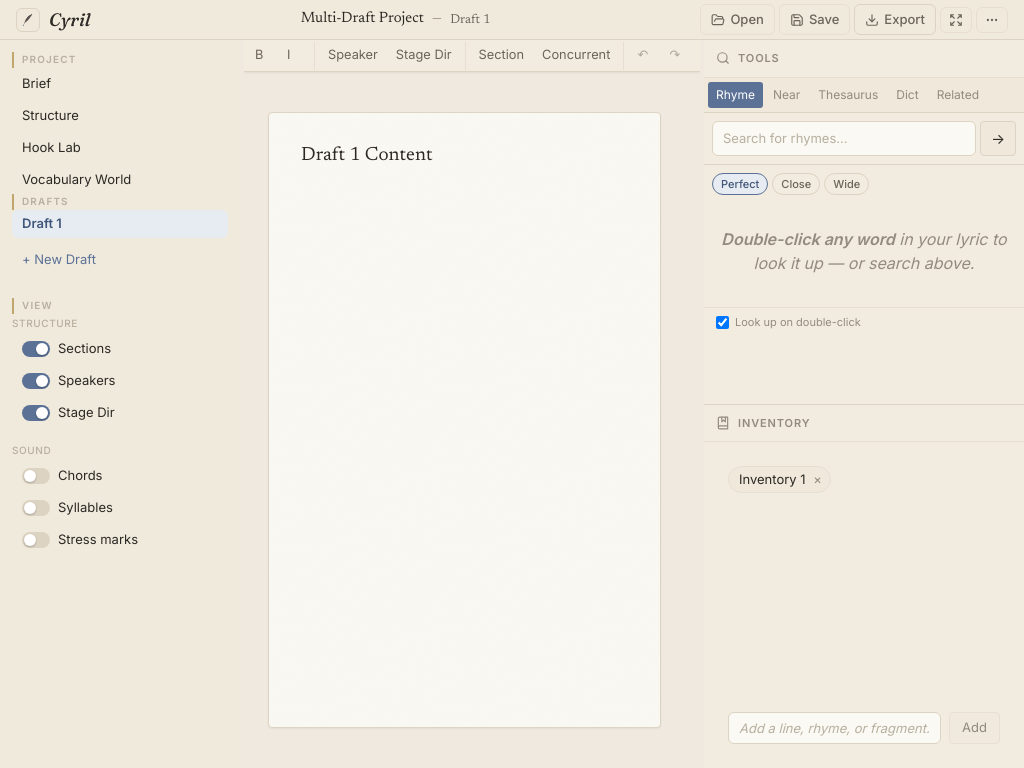
it: Workspaces and Drafts Integration › T-3.05: Create blank draft works
# Click New Draft
Click the button "+ New Draft": (59, 259) 22,251 -> 96,267
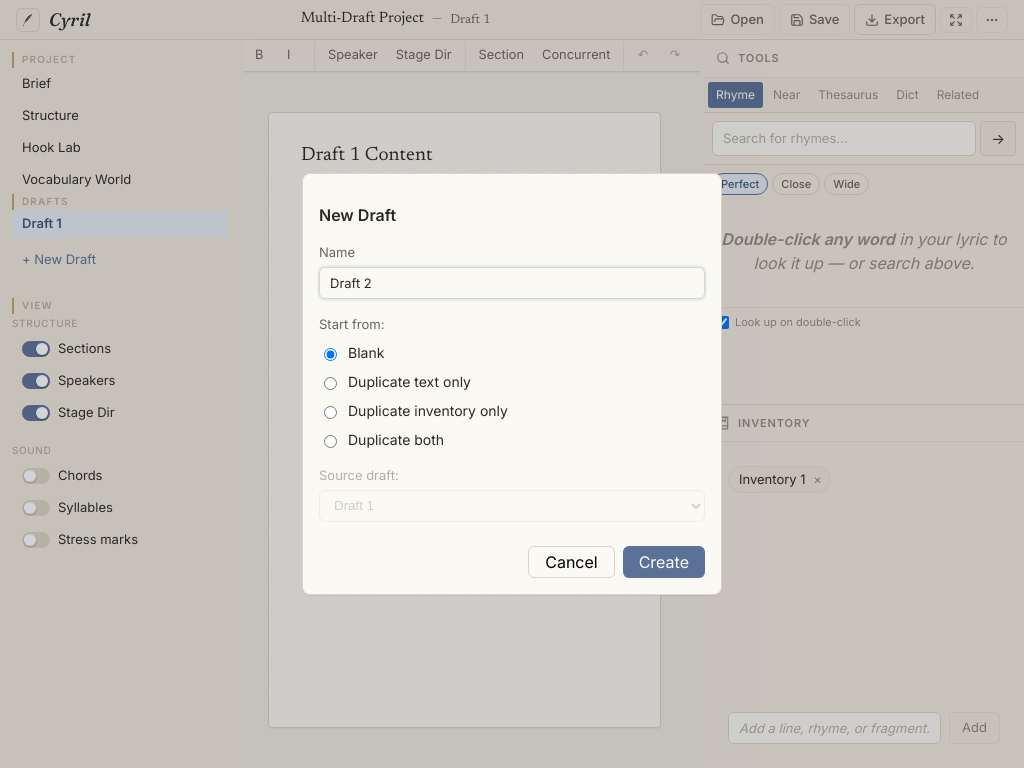
Expected: the heading "New Draft" is shown, 319,205 -> 396,225
Expected: the field showing "Draft 2" is shown, 319,267 -> 705,299
# Mode should be blank by default, just click create
Click the button "Create": (664, 562) 623,546 -> 705,578
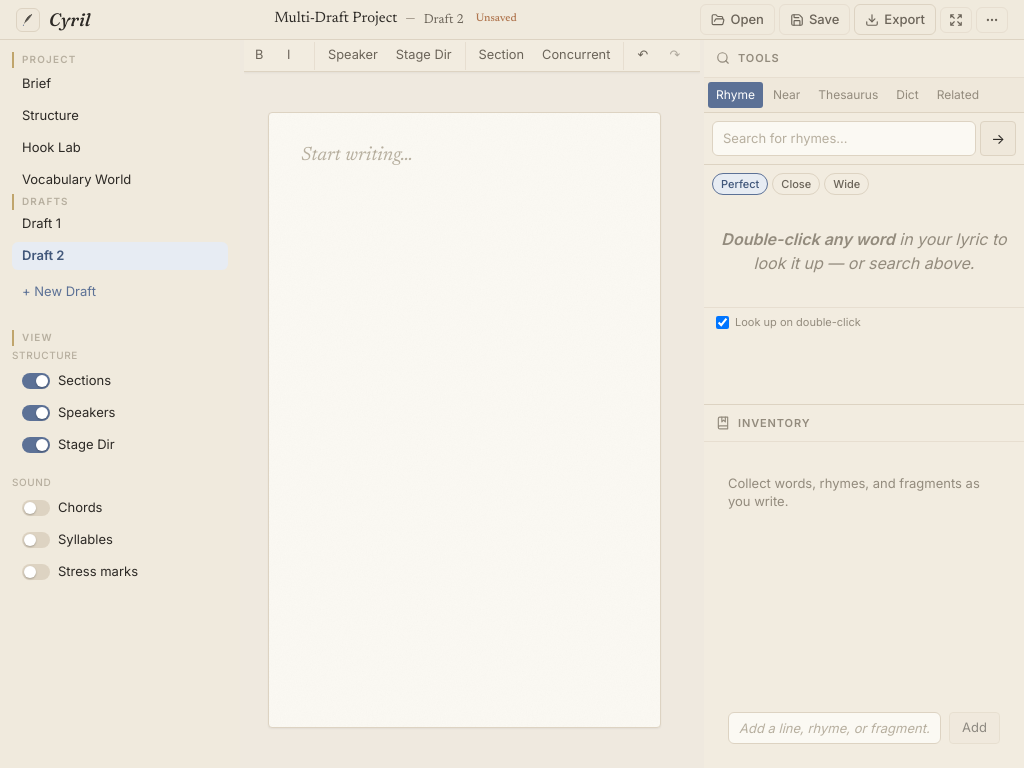
Expected: the text with test id "topbar-draft-name" reads "Draft 2", 424,13 -> 464,26
Expected: the text box "Draft 1 Content" is gone
Expected: the text "Draft 2" below "Drafts" is shown, 22,247 -> 64,263
